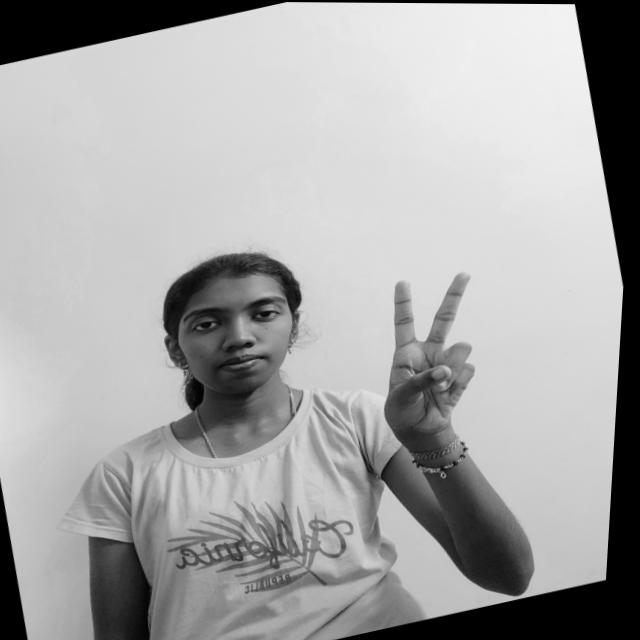Victory: (346, 256, 516, 455)
